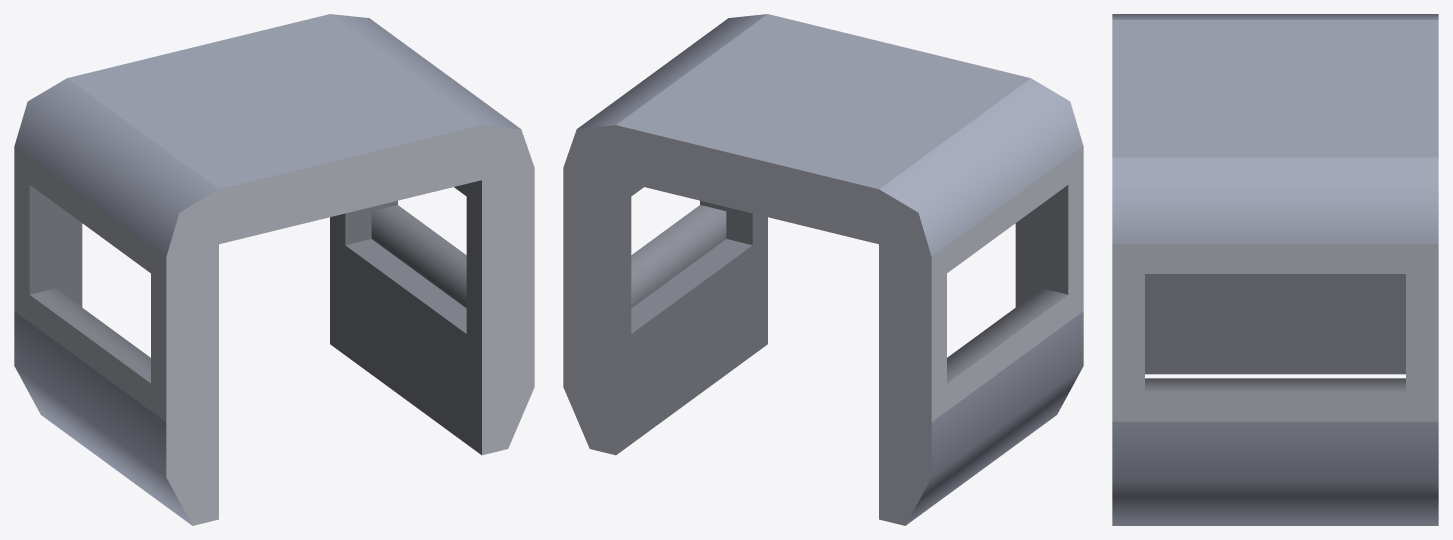
Rendered from cover-window.fbx.
The picture shows the model from 3 angles, left to right: view 1: azimuth 30°, elevation 25°; view 2: azimuth 150°, elevation 25°; view 3: azimuth 270°, elevation 25°; orthographic projection. The views are drawn at different scales.
Parts seen in each view (by area): view 1: cover-window; view 2: cover-window; view 3: cover-window.
Part boxes in pixels (x1=…): cover-window: x1=14, y1=14, x2=534, y2=525; cover-window: x1=563, y1=14, x2=1083, y2=525; cover-window: x1=1112, y1=14, x2=1438, y2=525.
Size of the model in its own units: 140 by 120 by 100.
